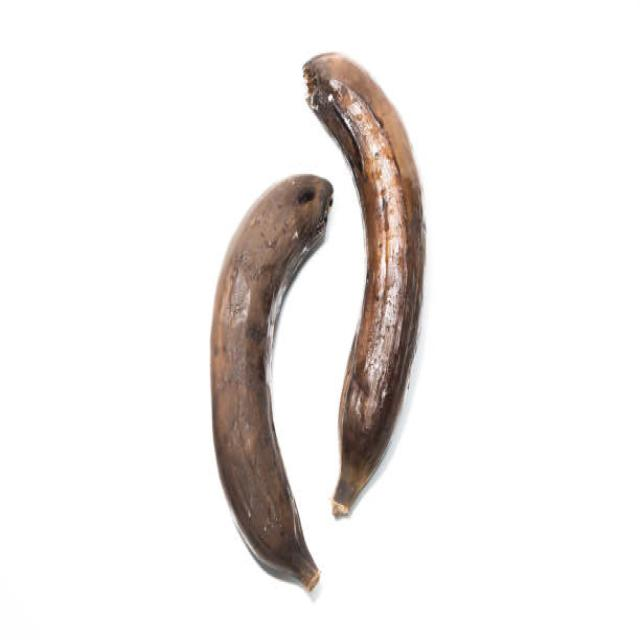Rotten: (208, 173, 332, 590)
